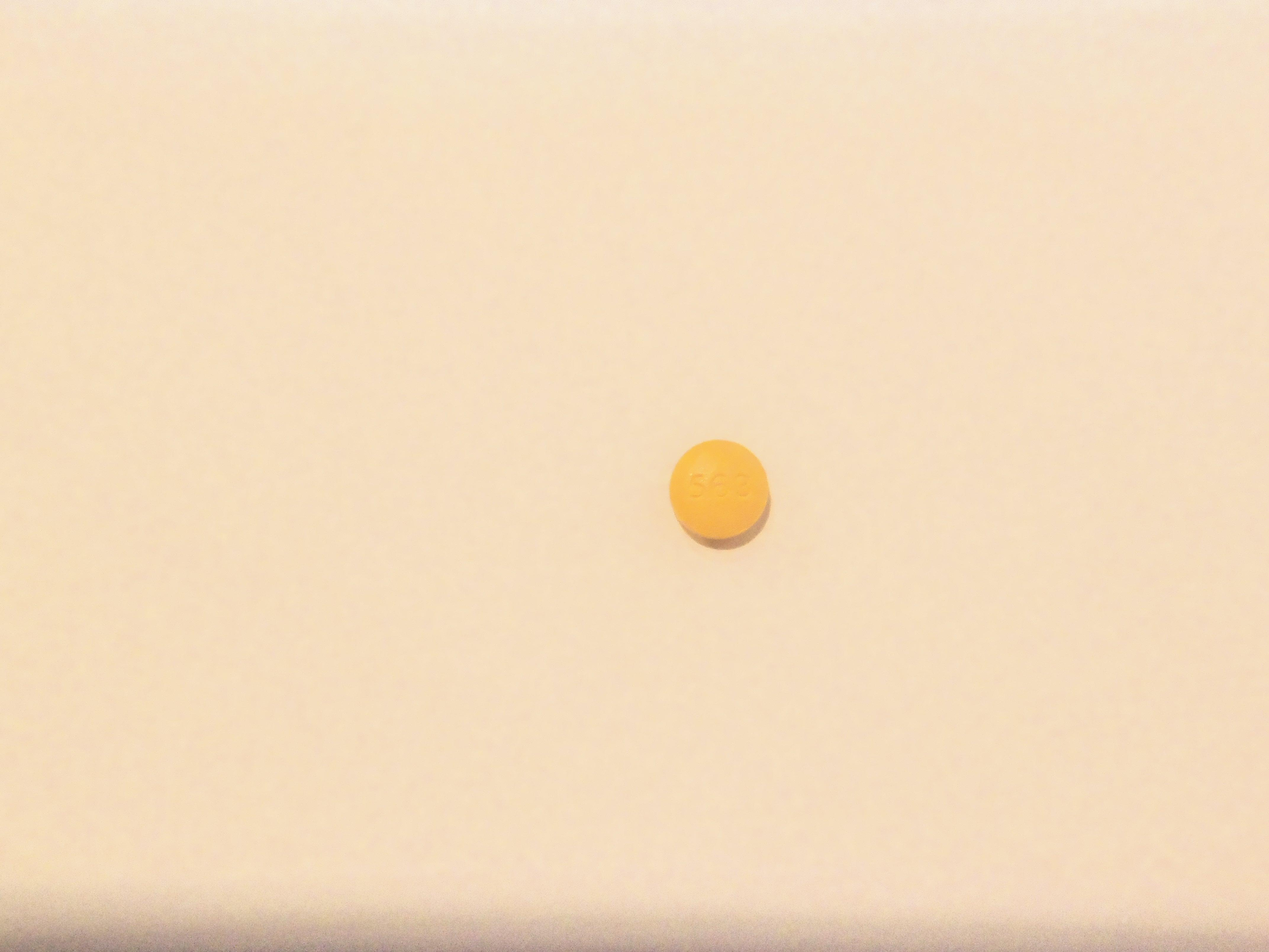Pill: (663, 432, 774, 545)
